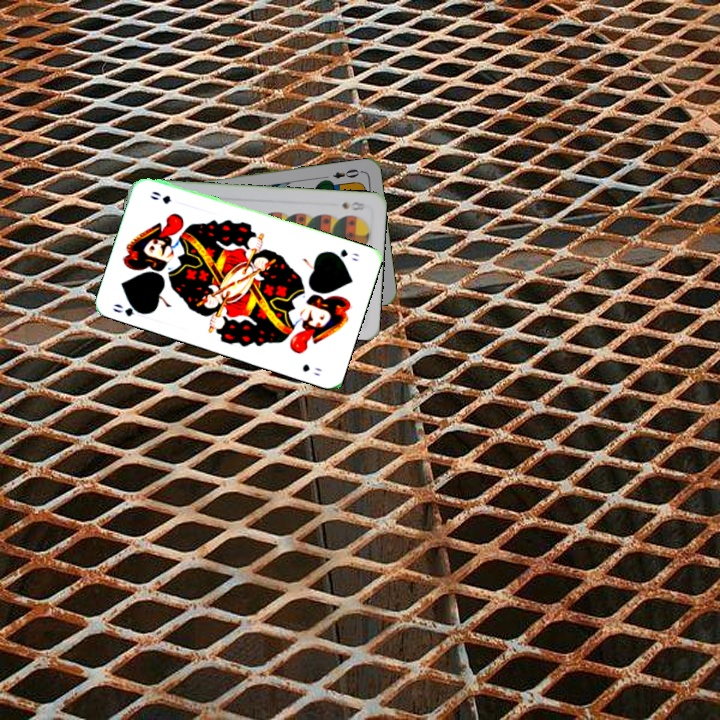EO: (329, 165, 365, 181)
GO: (109, 298, 149, 319), (325, 245, 362, 264)
S8: (338, 198, 368, 213)
